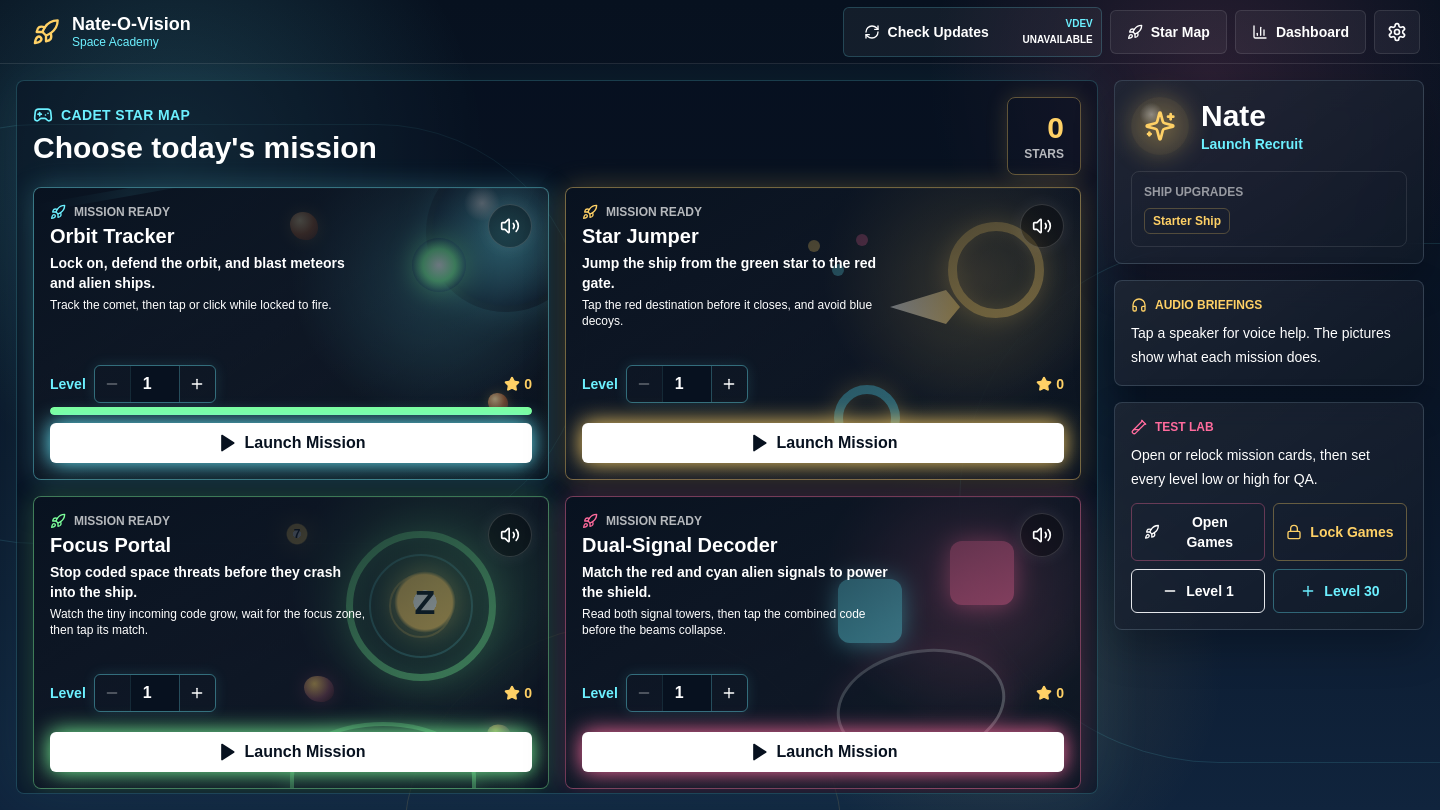
Test: App › starts the orbit tracker mission
The width and height of the screenshot is (1440, 810).
Click the button named "Launch Mission: Orbit Tracker".
click(291, 443)  # box [50,423,532,463]
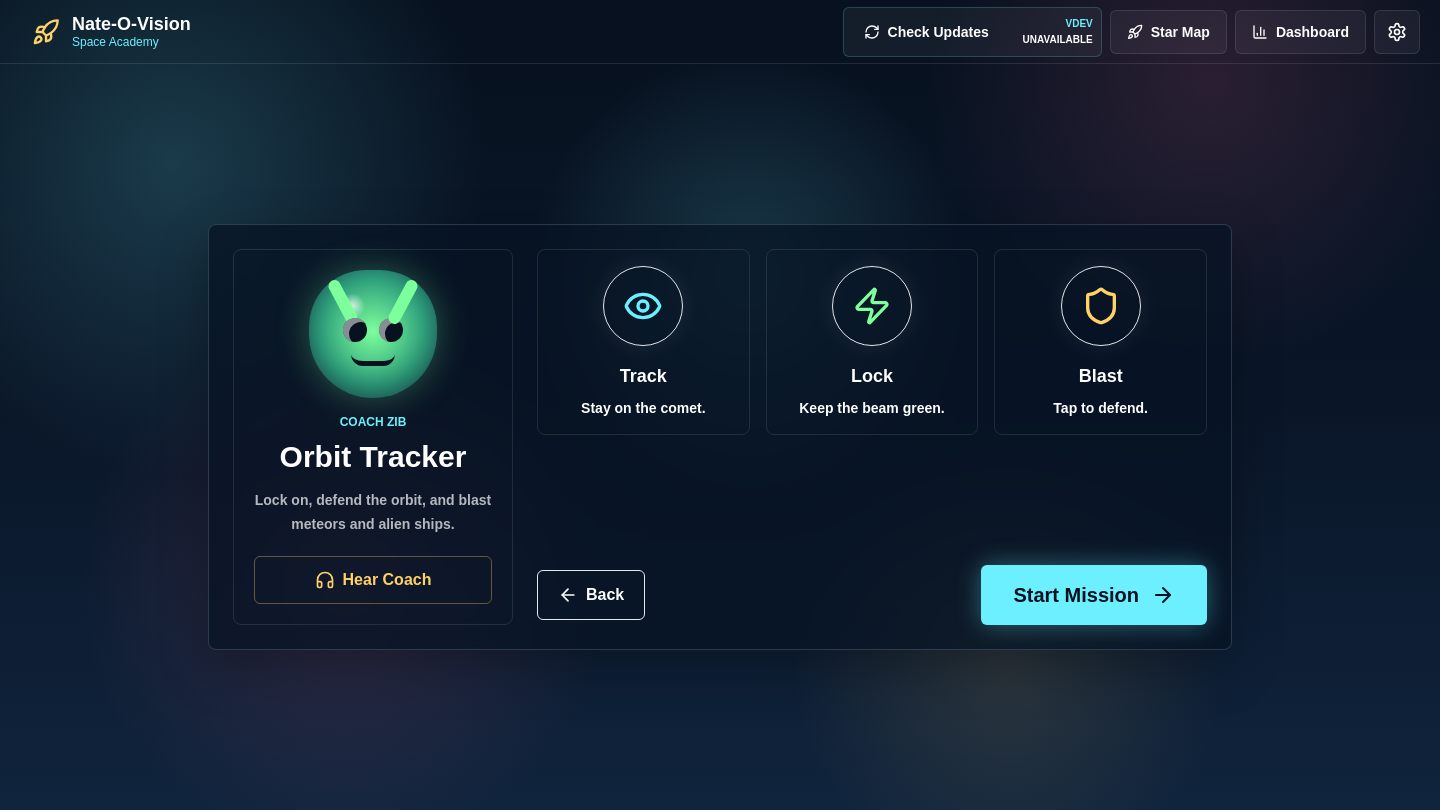
Check: the text "Track" is shown, box [620,366,667,386]
Click the button named "Start Mission: Orbit Tracker".
click(1094, 595)  # box [981,565,1207,625]
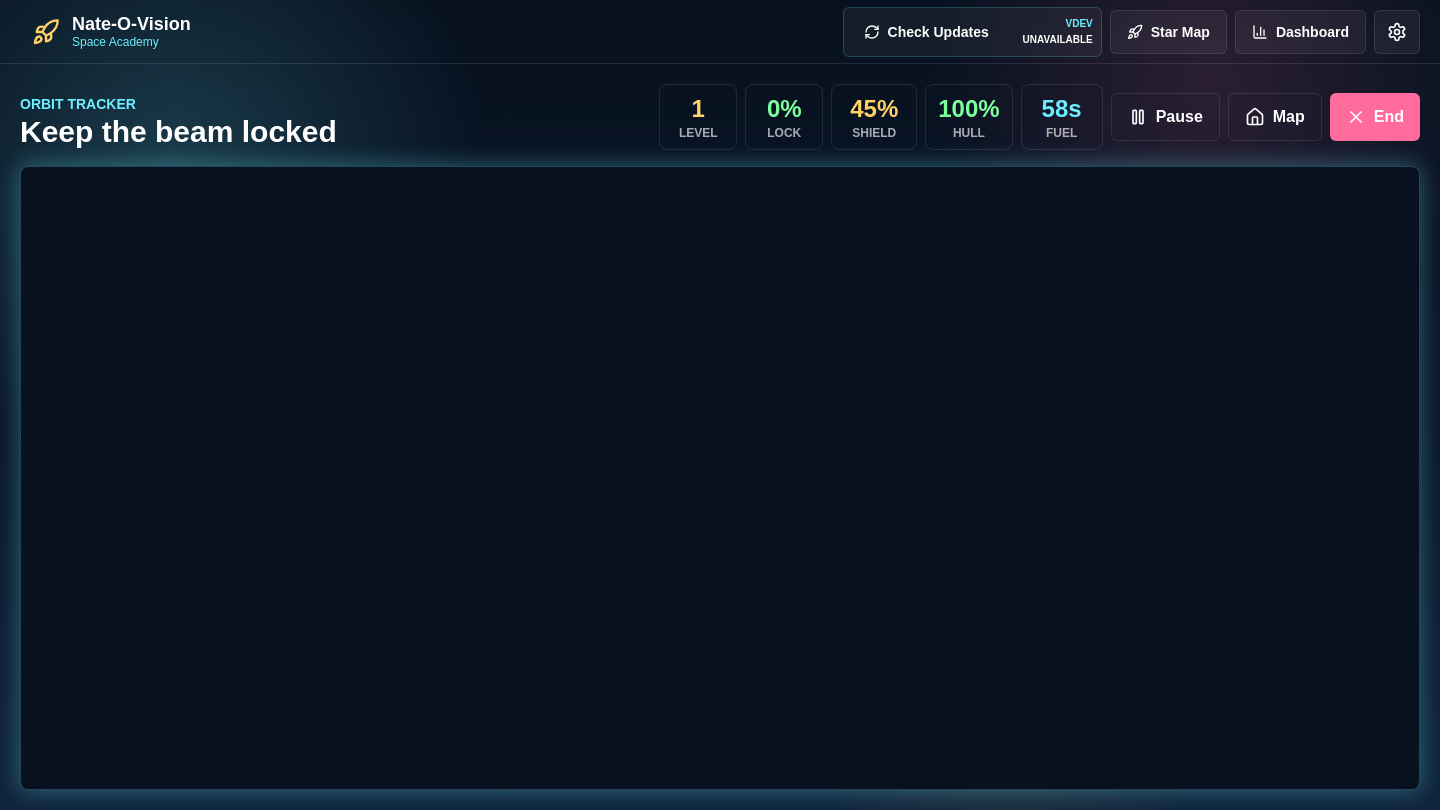
Check: the heading "Keep the beam locked" is shown, box [20,115,337,148]
Check: the drawing named "Orbit Tracker game surface" is shown
